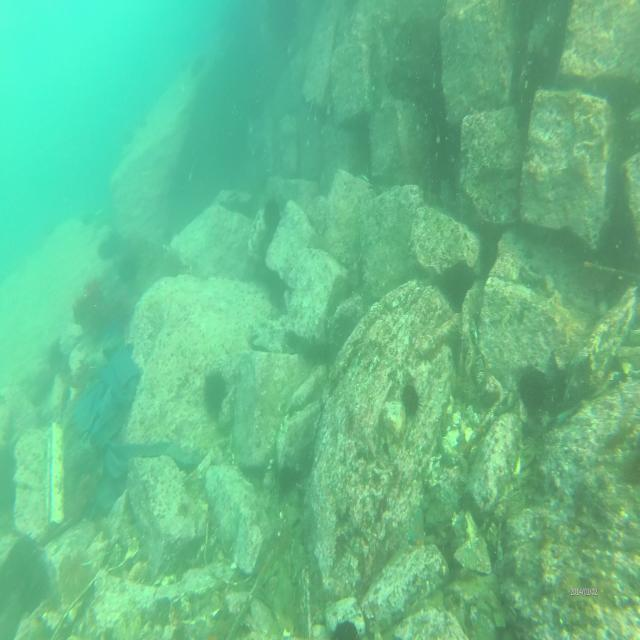echinus: (60, 552, 93, 605), (200, 366, 230, 416), (518, 364, 546, 410), (400, 380, 420, 420), (262, 198, 281, 232)
starfish: (406, 505, 428, 553)
